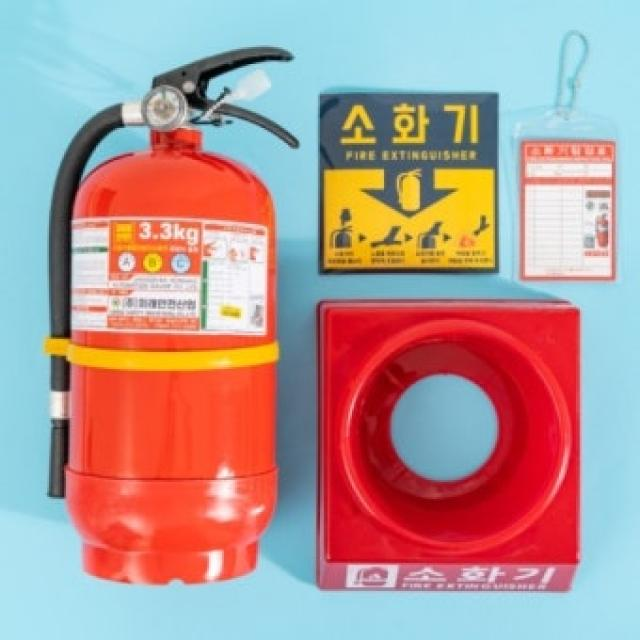pressure gauge: (141, 85, 186, 130)
